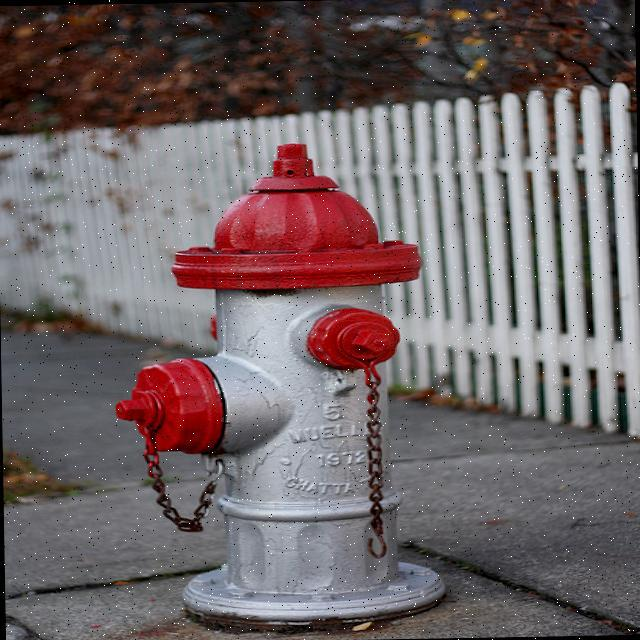fire_hydrant: (108, 142, 443, 626)
